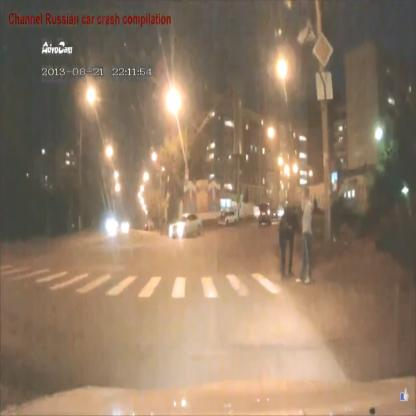crosswalk: (2, 266, 288, 300)
